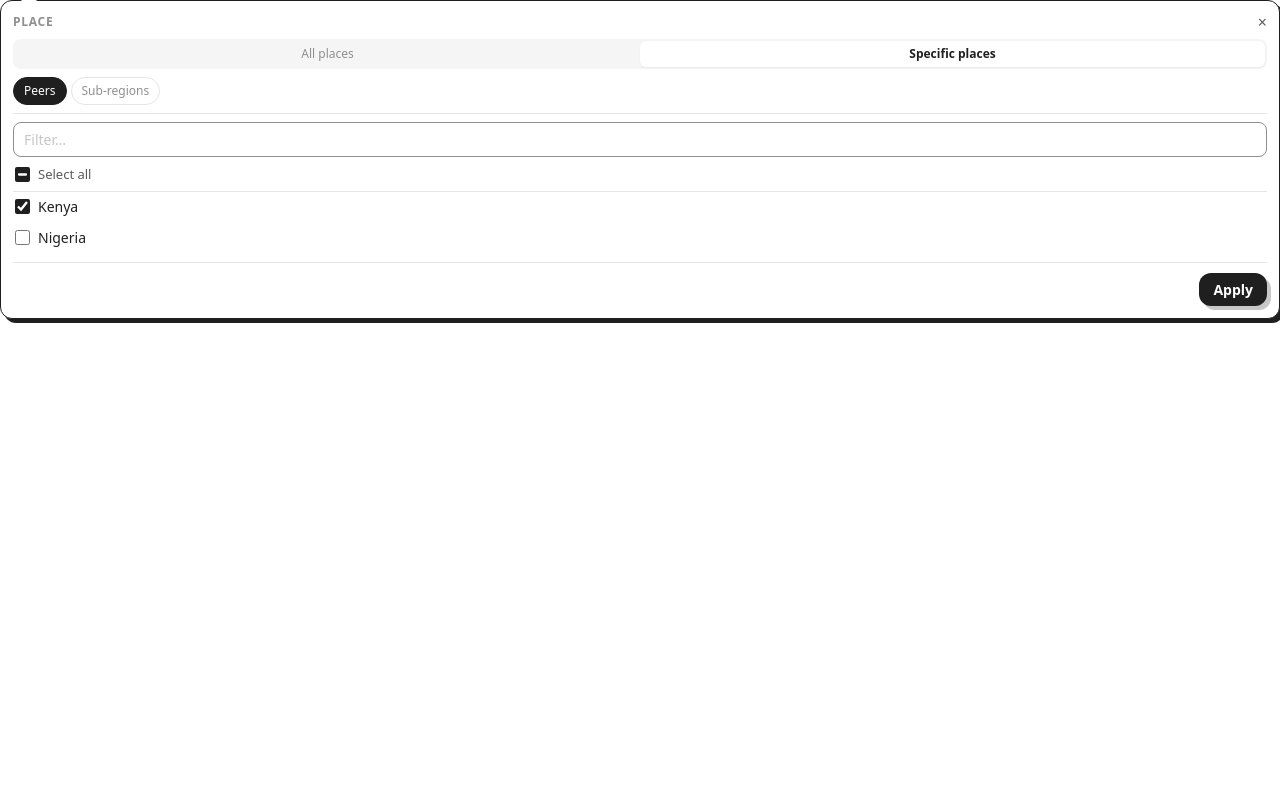
it: <PlacePopover> › shows an honest empty state when switching to children scope with unsupported_children_anchor_type
Check: the checkbox labelled "Nigeria" is shown, box [15,230,30,244]
Click the tab "Sub-regions" at [115, 91], box [70,77,160,105]
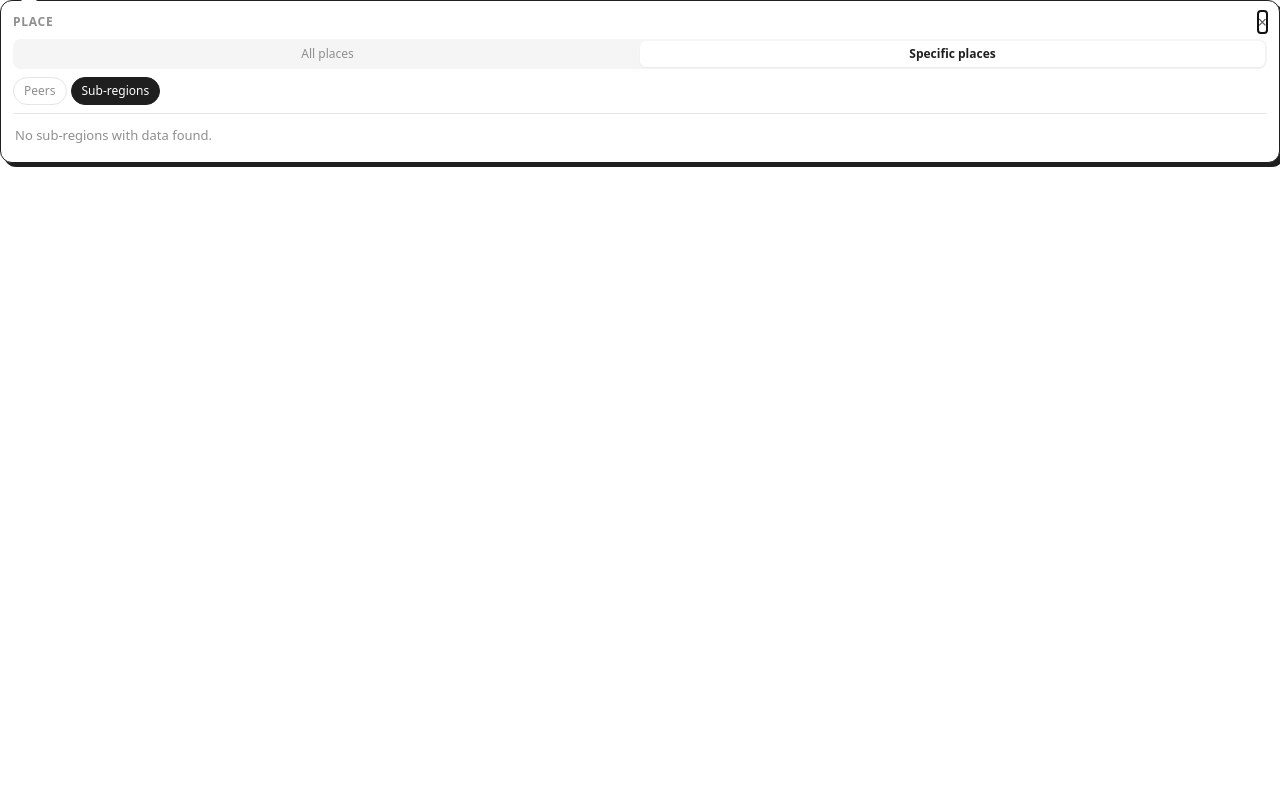
Check: the text "No sub-regions with data found." is shown, box [15,126,212,144]
